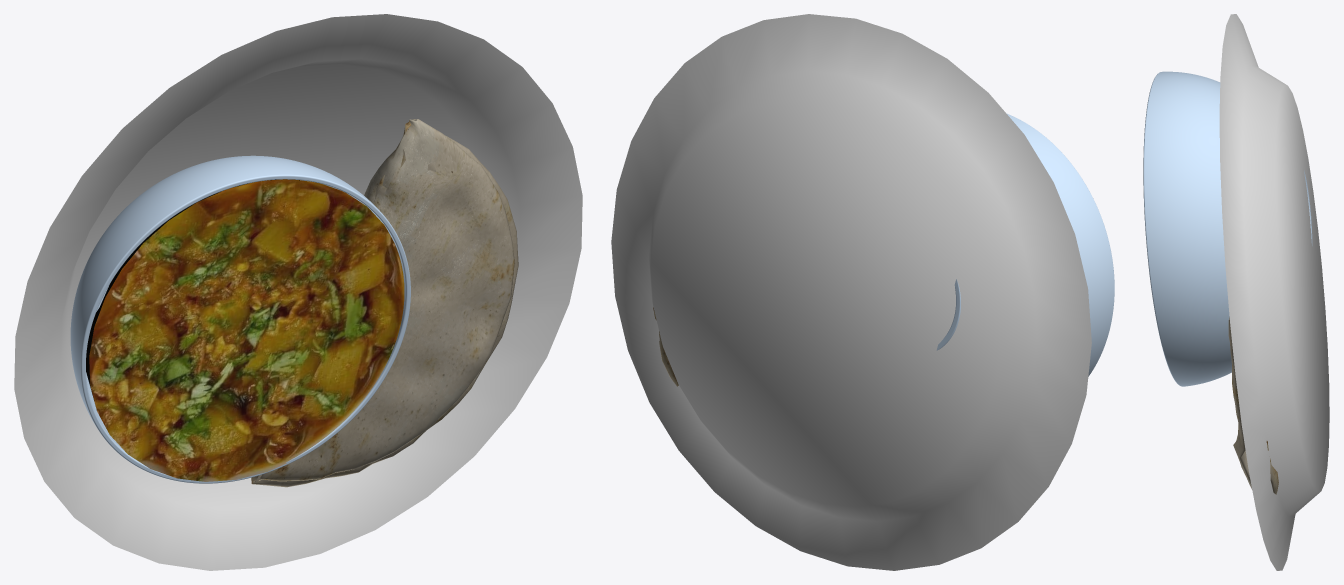
Rendered from lokikaddo.glb.
3 renders of one model, left to right at view 1: azimuth 30°, elevation 25°; view 2: azimuth 150°, elevation 25°; view 3: azimuth 270°, elevation 25°, orthographic. The views are drawn at different scales.
Parts seen in each view (by area): view 1: Circle.002, coffee.001, Cylinder.002, Kugel.001; view 2: Circle.002, Kugel.001; view 3: Circle.002, Kugel.001, Cylinder.002.
Part boxes in pixels (left/top/right/bottom): Circle.002: left=14, top=14, right=582, bottom=570; coffee.001: left=86, top=179, right=404, bottom=481; Cylinder.002: left=251, top=119, right=518, bottom=487; Kugel.001: left=70, top=155, right=410, bottom=483; Circle.002: left=611, top=14, right=1091, bottom=570; Kugel.001: left=936, top=113, right=1114, bottom=376; Circle.002: left=1219, top=14, right=1329, bottom=570; Kugel.001: left=1143, top=71, right=1312, bottom=386; Cylinder.002: left=1228, top=317, right=1278, bottom=494.
Size of the model in its own units: 5.74 by 5.71 by 1.91.
4 materials, 2 textured.
